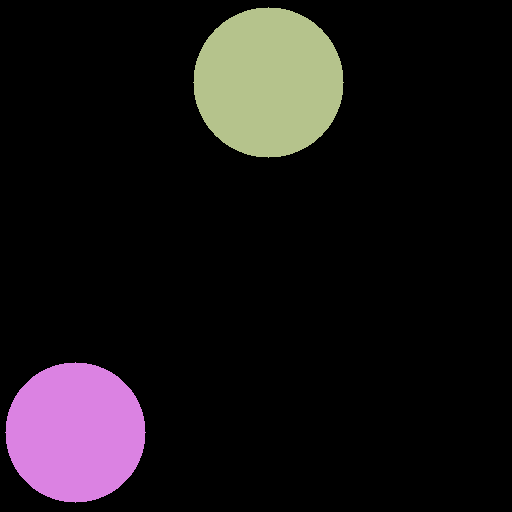circle: (193, 7, 343, 157), (5, 362, 145, 502)
